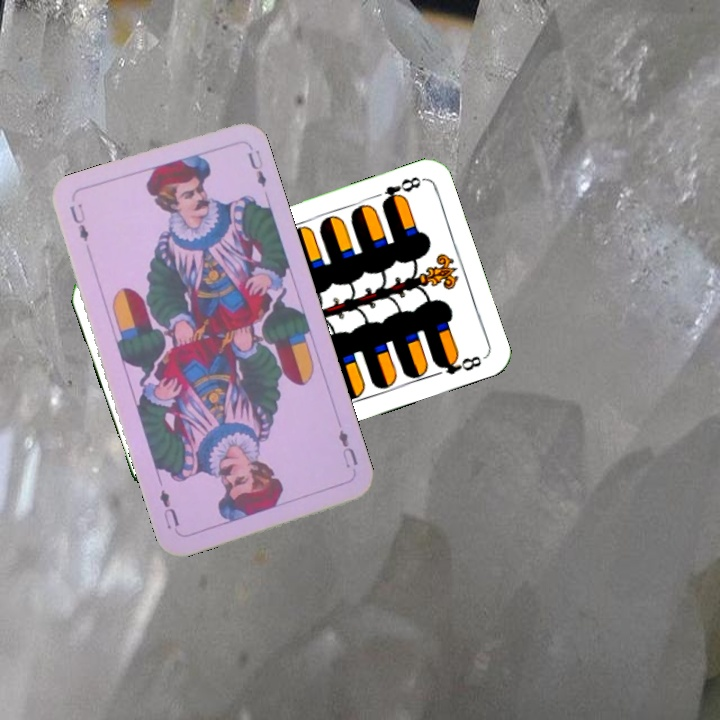E8: (377, 172, 425, 209)
EU: (334, 425, 361, 471), (65, 199, 91, 245)
